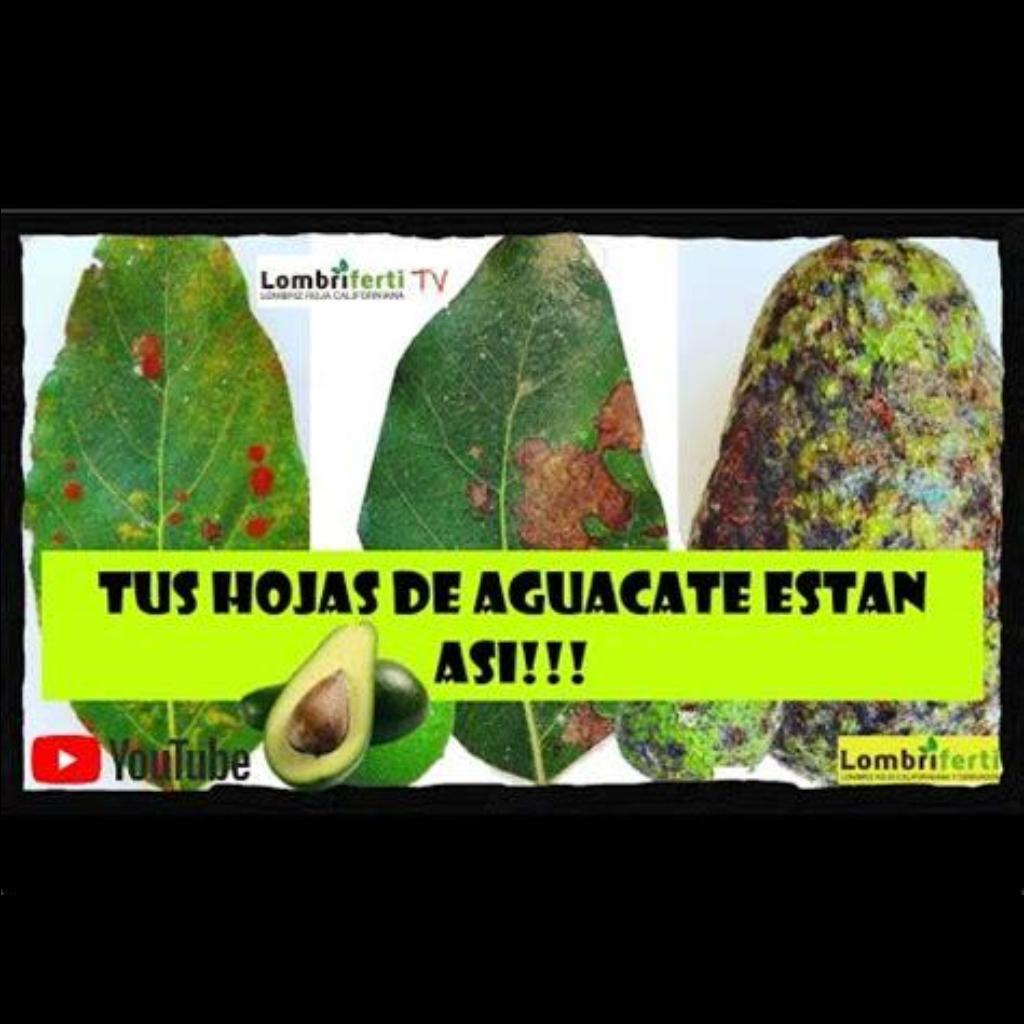cercospora: (704, 236, 1000, 546), (609, 702, 793, 780)
